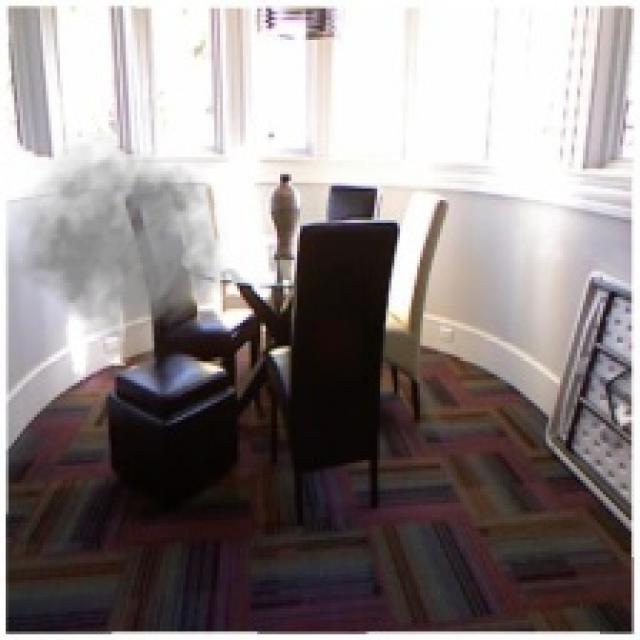Smoke: (2, 131, 228, 340)
